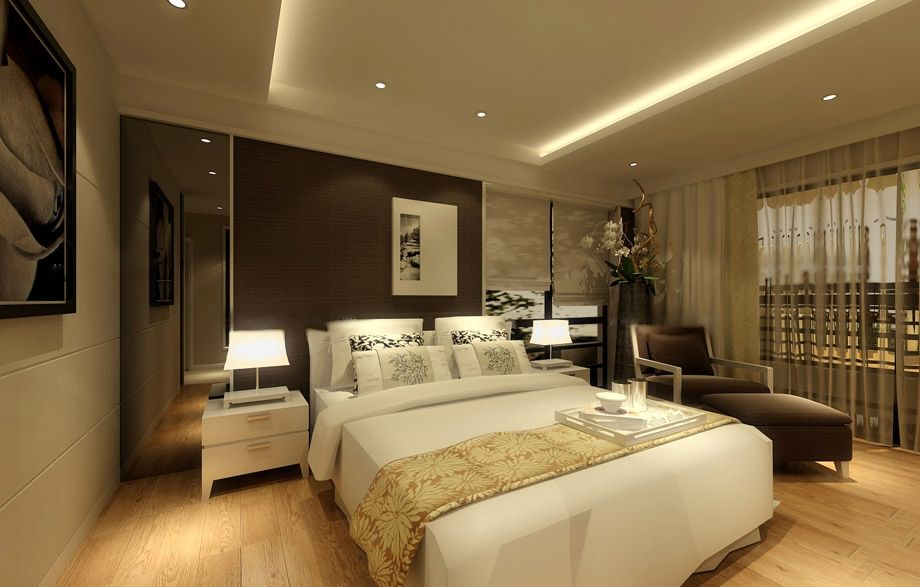床: (313, 360, 788, 587)
枕头: (341, 322, 538, 388)
灯: (218, 331, 289, 400), (534, 313, 578, 370), (369, 77, 392, 94), (819, 90, 842, 107), (162, 1, 192, 13), (193, 135, 213, 151), (470, 108, 490, 123), (625, 158, 643, 172), (200, 169, 216, 182)
